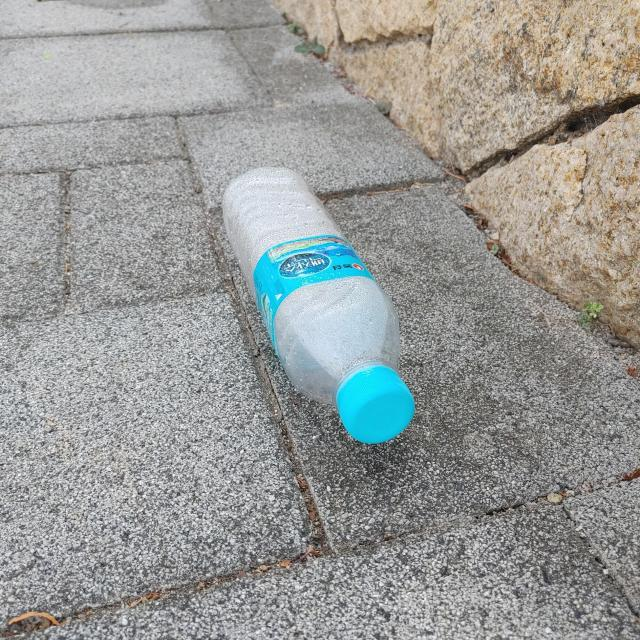plastic: (222, 167, 415, 444)
